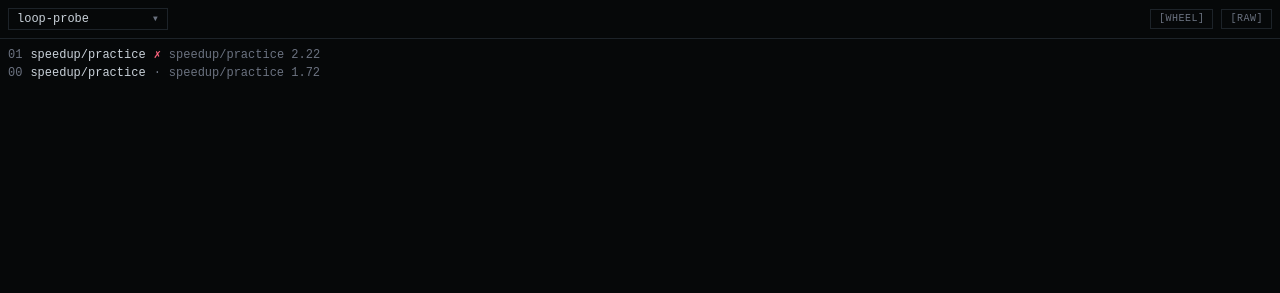
Test: FlywheelPane round detail — per-problem rows › marks an unscored problem instead of showing a measured-looking zero
The image size is (1280, 293).
Click the button "01 speedup/practice ✗ speedup/practice 2.22". click: (88, 55)
box: [8,47,1272,63]
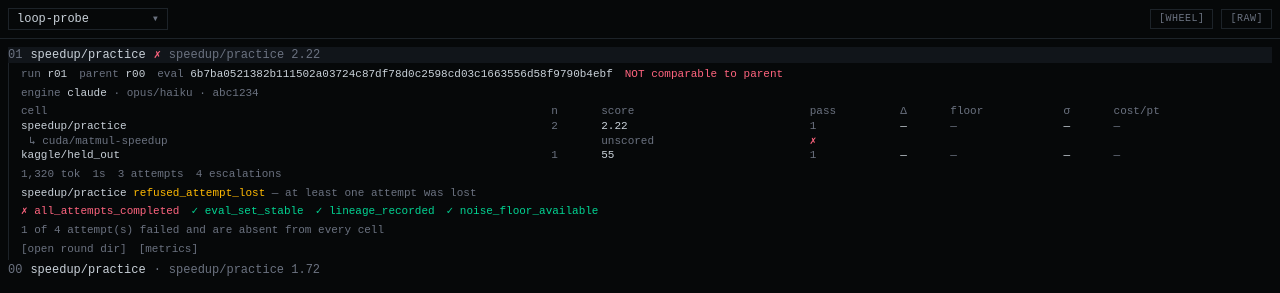
Now the text "NOT comparable to parent" is shown, box [625,67,783,82]
Now the text "unscored" is shown, box [601,134,810,148]
Now the cell titled "failed correctness" is shown, box [810,134,900,148]
